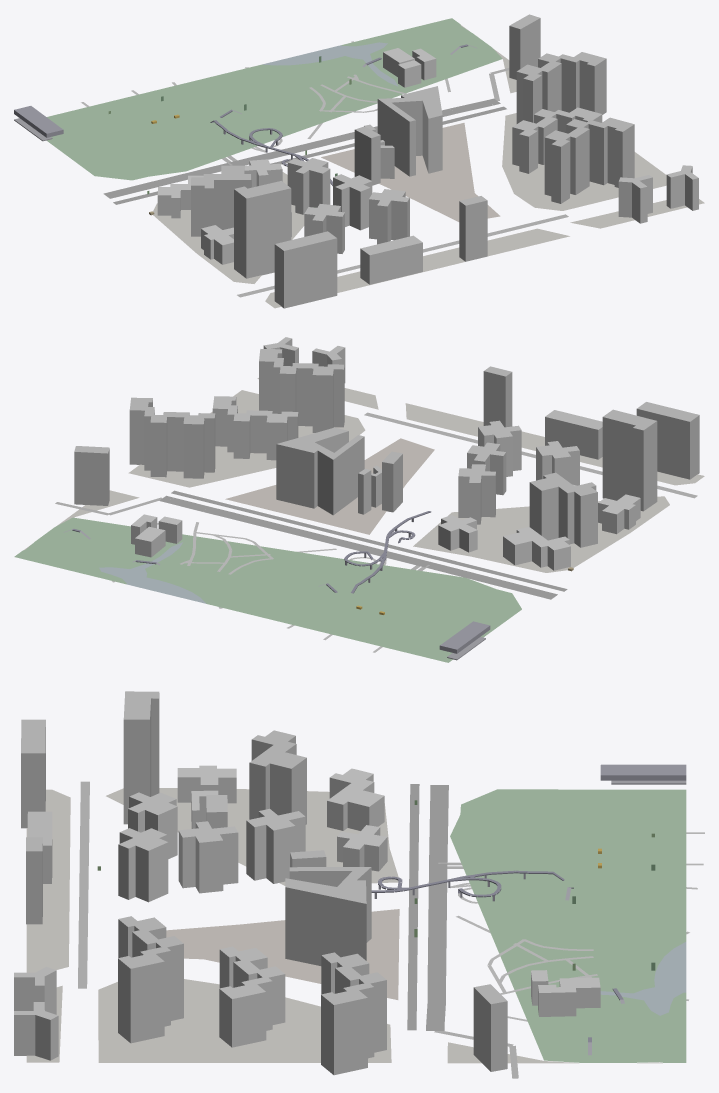
3 views of the same model, one above another, from view 1: azimuth 30°, elevation 25°; view 2: azimuth 150°, elevation 25°; view 3: azimuth 270°, elevation 25° (orthographic). The views are drawn at different scales.
Size of the model in its own units: 534 by 88.62 by 524.
